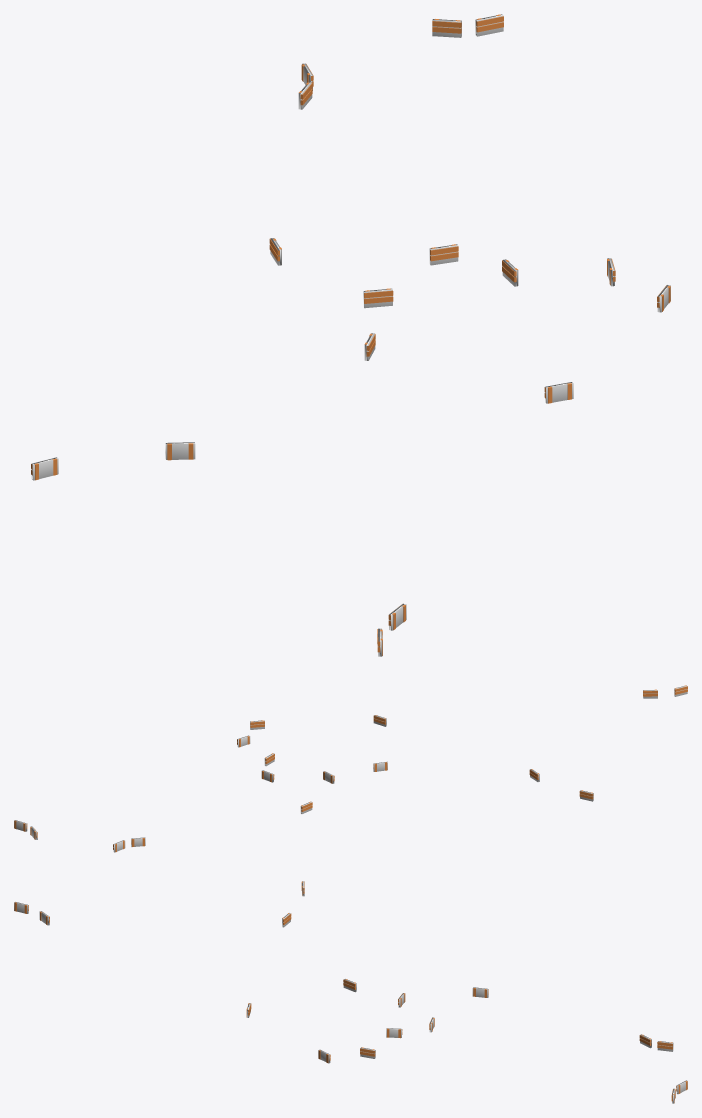
Rendered from fences.glb.
3 renders of one model, top to bottom at view 1: azimuth 30°, elevation 25°; view 2: azimuth 150°, elevation 25°; view 3: azimuth 270°, elevation 25°, orthographic. The views are drawn at different scales.
Bounding box in the file's own units: 68.48 × 1.33 × 91.2.
Materials: 1 (1 with a texture image).
